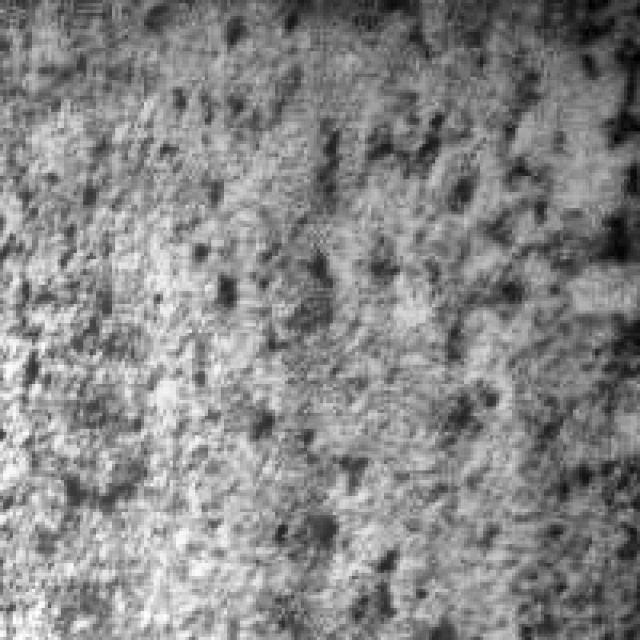Rolled_in_Scale: (224, 54, 611, 602), (26, 32, 327, 531)
